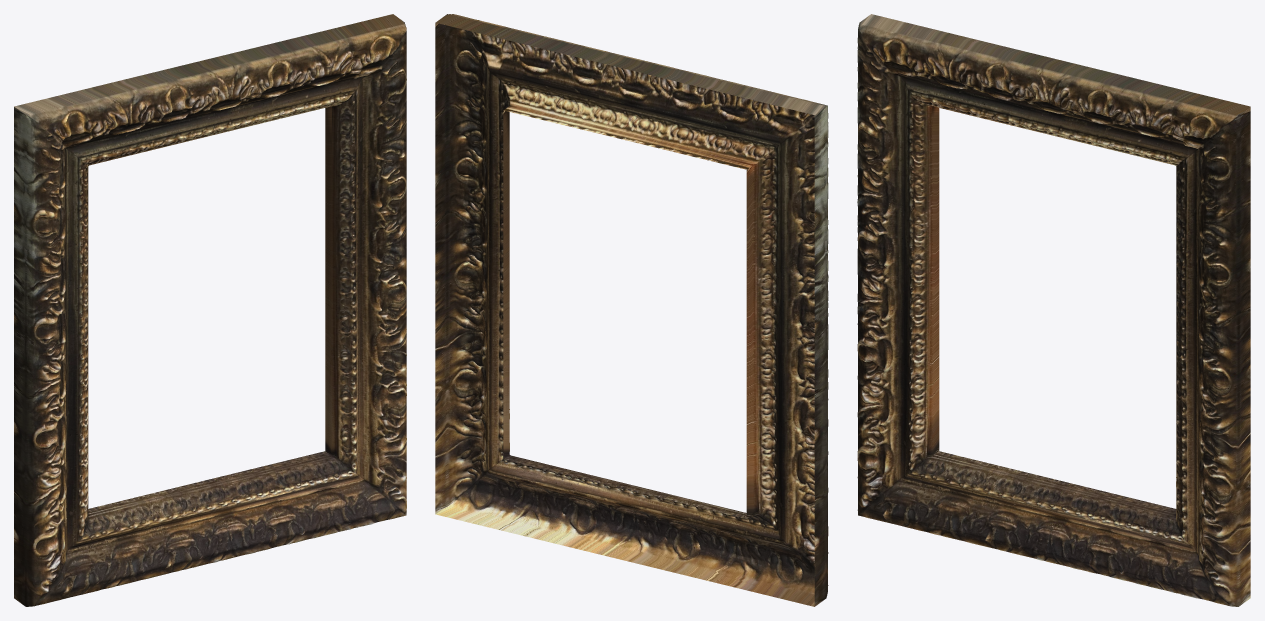
File: ifac-carved-liner.glb
3 views of the same model, side by side, from view 1: azimuth 30°, elevation 25°; view 2: azimuth 150°, elevation 25°; view 3: azimuth 330°, elevation 25° (orthographic).
Visible parts, largest first — view 1: frame4; view 2: frame4; view 3: frame4.
Part boxes in pixels (<box>): frame4: <box>14,14,406,606</box>; frame4: <box>435,14,828,606</box>; frame4: <box>857,14,1250,606</box>.
Size of the model in its own units: 0.4674 by 0.5791 by 0.0445.
Materials: 1 (1 with a texture image).
